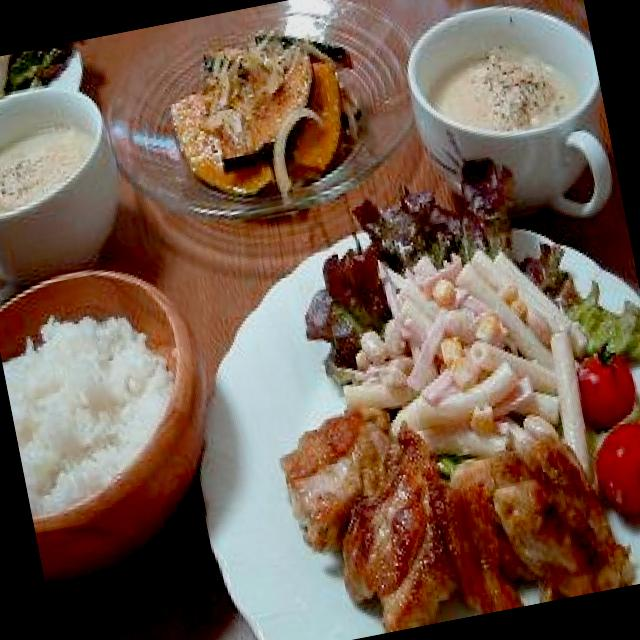Rice: (0, 301, 190, 511)
